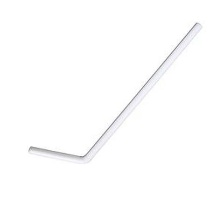drinking_straw: (24, 18, 206, 169)
